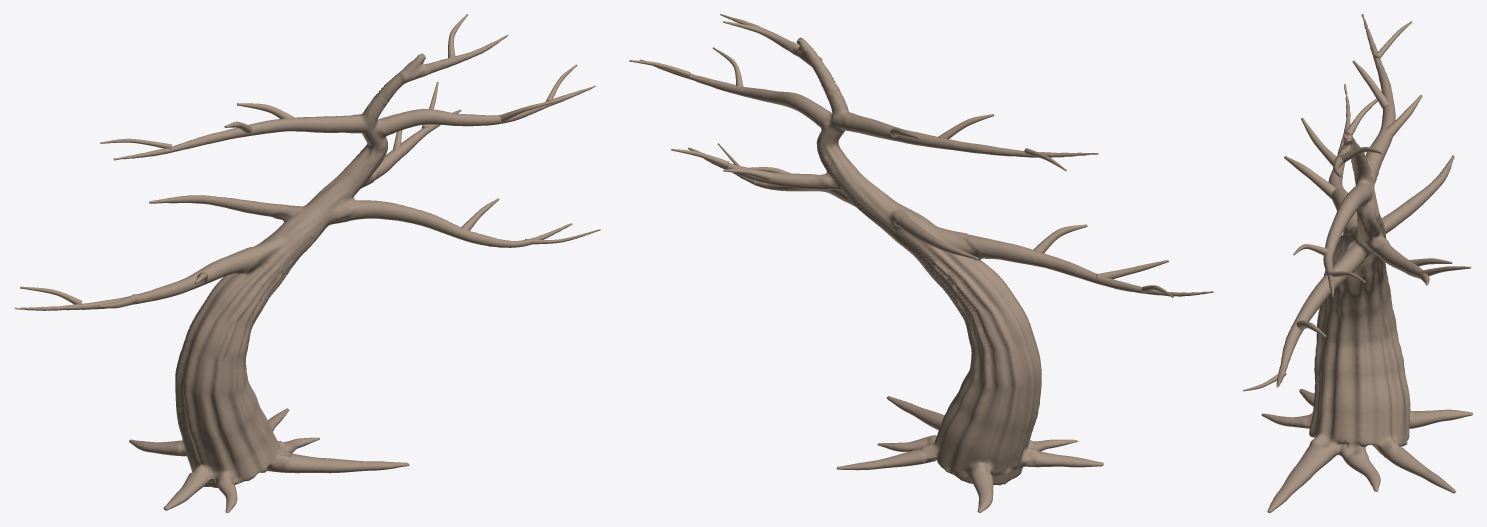
Rendered from pine005-h23-refined.glb.
3 renders of one model, left to right at view 1: azimuth 30°, elevation 25°; view 2: azimuth 150°, elevation 25°; view 3: azimuth 270°, elevation 25°, orthographic. The views are drawn at different scales.
Parts seen in each view (by area): view 1: H23_CONTINUOUS_TRUNK_MAJOR_BRANCHES_BUTTRESS_ROOTS; view 2: H23_CONTINUOUS_TRUNK_MAJOR_BRANCHES_BUTTRESS_ROOTS; view 3: H23_CONTINUOUS_TRUNK_MAJOR_BRANCHES_BUTTRESS_ROOTS, H23__TWIG left-3, H23__TWIG upper-left-1, H23__TWIG upper-left-3, H23__TWIG left-1, H23__TWIG left-2, H23__TWIG apex-1.
Part boxes in pixels (x1,y1,x2,y2): H23_CONTINUOUS_TRUNK_MAJOR_BRANCHES_BUTTRESS_ROOTS: (15,34,595,512); H23_CONTINUOUS_TRUNK_MAJOR_BRANCHES_BUTTRESS_ROOTS: (639,14,1213,512); H23_CONTINUOUS_TRUNK_MAJOR_BRANCHES_BUTTRESS_ROOTS: (1261,14,1472,512); H23__TWIG left-3: (1284,156,1335,198); H23__TWIG upper-left-1: (1352,60,1389,108); H23__TWIG upper-left-3: (1386,95,1422,136); H23__TWIG left-1: (1301,118,1344,166); H23__TWIG left-2: (1345,98,1377,135); H23__TWIG apex-1: (1339,147,1383,163).
Bounding box in the file's own units: 12.36 × 8.1 × 3.94.
